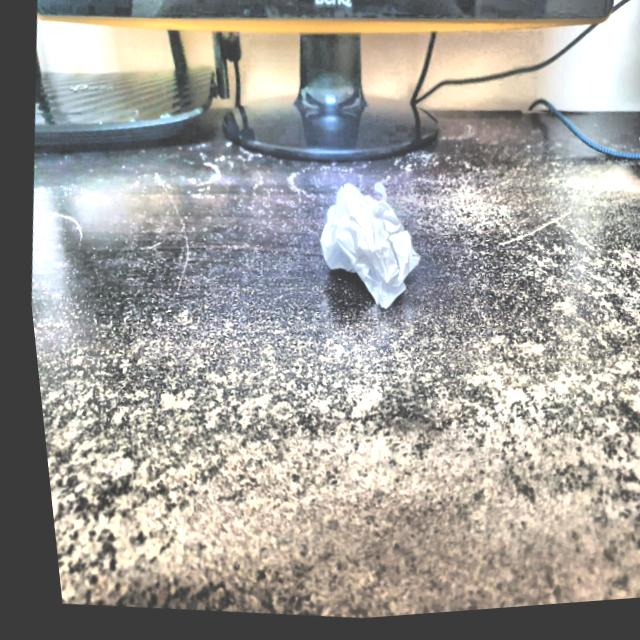Paper: (297, 174, 426, 330)
